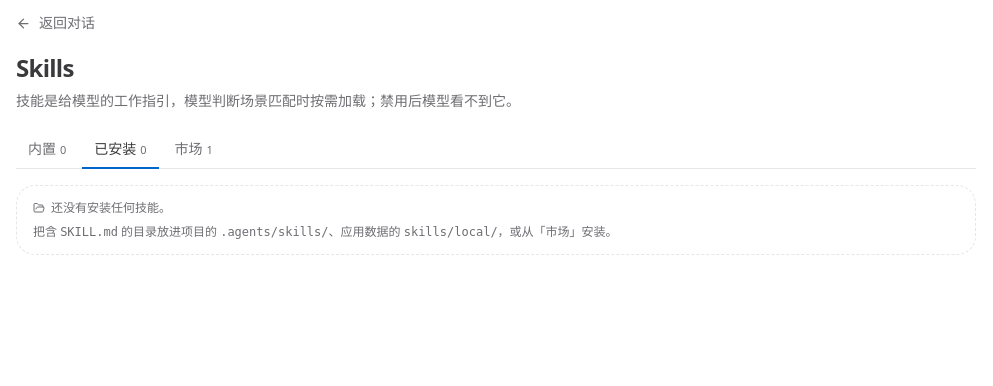
Test: SkillsPage › 无完整性校验的条目带标记
Click the tab "市场1": (194, 150) [163,131,225,169]
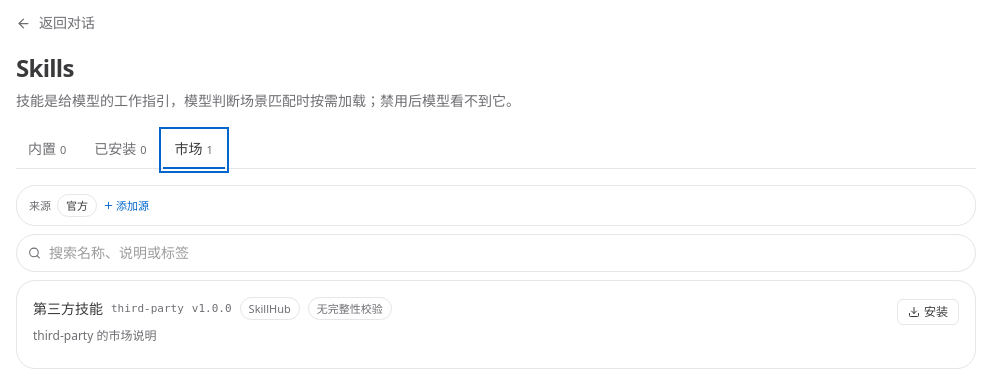
Check: the text "无完整性校验" is shown, box [308,297,392,320]
